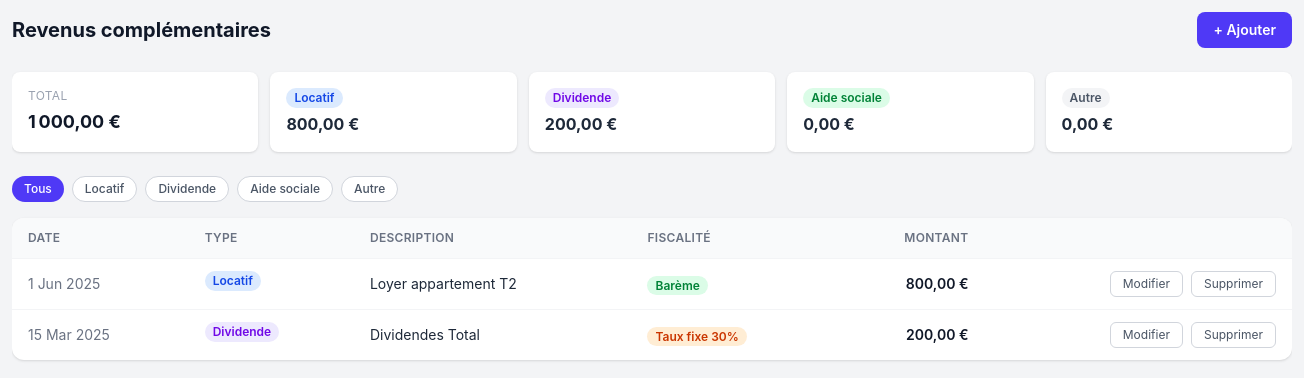
OtherIncomePage — pattern CRUD › affiche tous les revenus au clic sur "Tous"
The width and height of the screenshot is (1304, 378).
Check: the text "Loyer appartement T2" is shown, box [354,258,632,310]
Note: Filtrer puis revenir à Tous
Click the button "Dividende" at [187, 189], box [145,176,229,202]
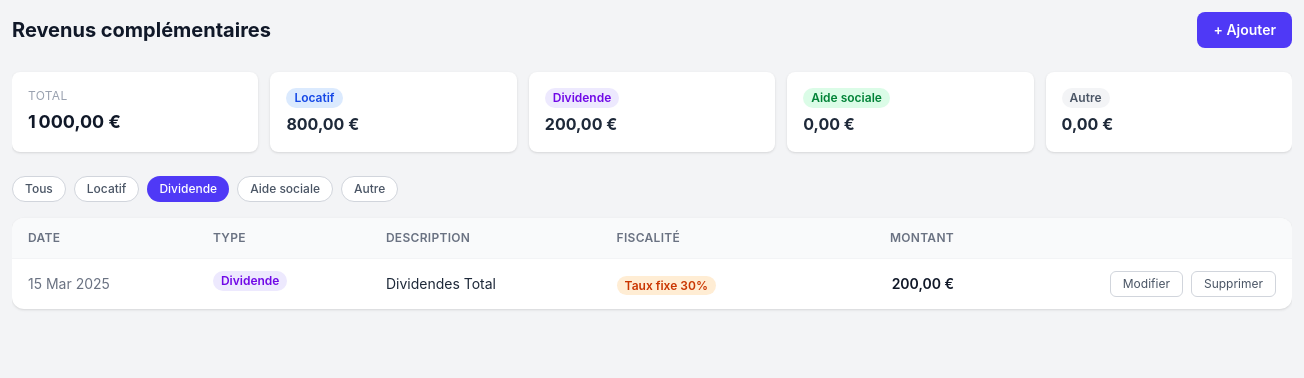
Click the button "Tous" at [39, 189], box [12,176,66,202]
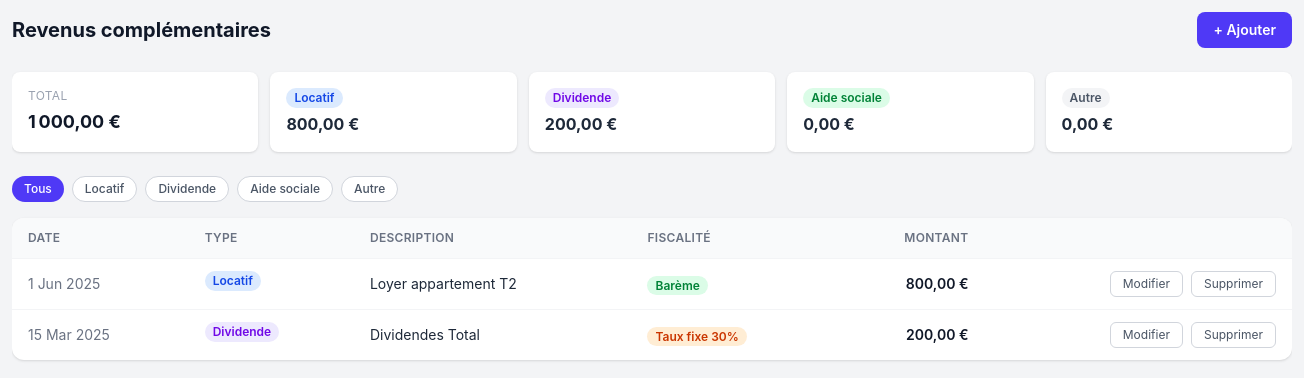
Check: the text "Dividendes Total" is shown, box [354,310,632,360]
Check: the text "Loyer appartement T2" is shown, box [354,258,632,310]
